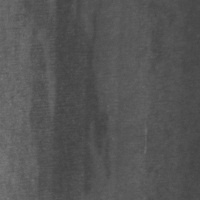inclusion: (75, 12, 113, 198)
